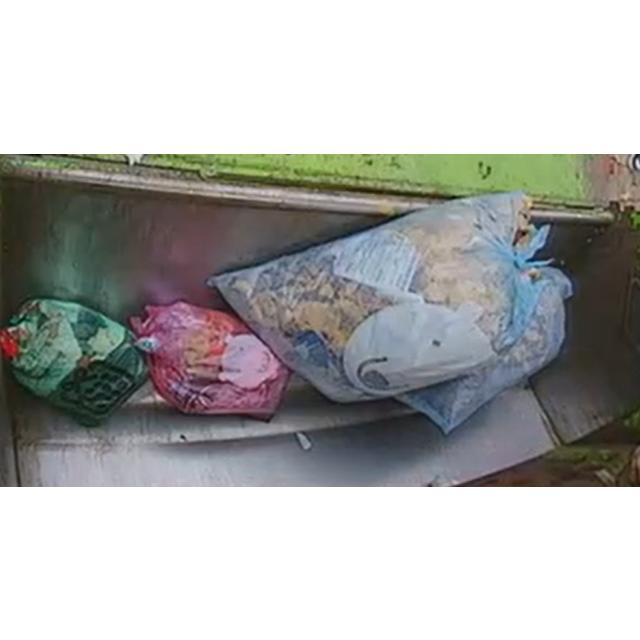general_trashbag: (0, 298, 148, 424)
other_trashbag: (209, 192, 572, 432), (129, 300, 290, 419)
